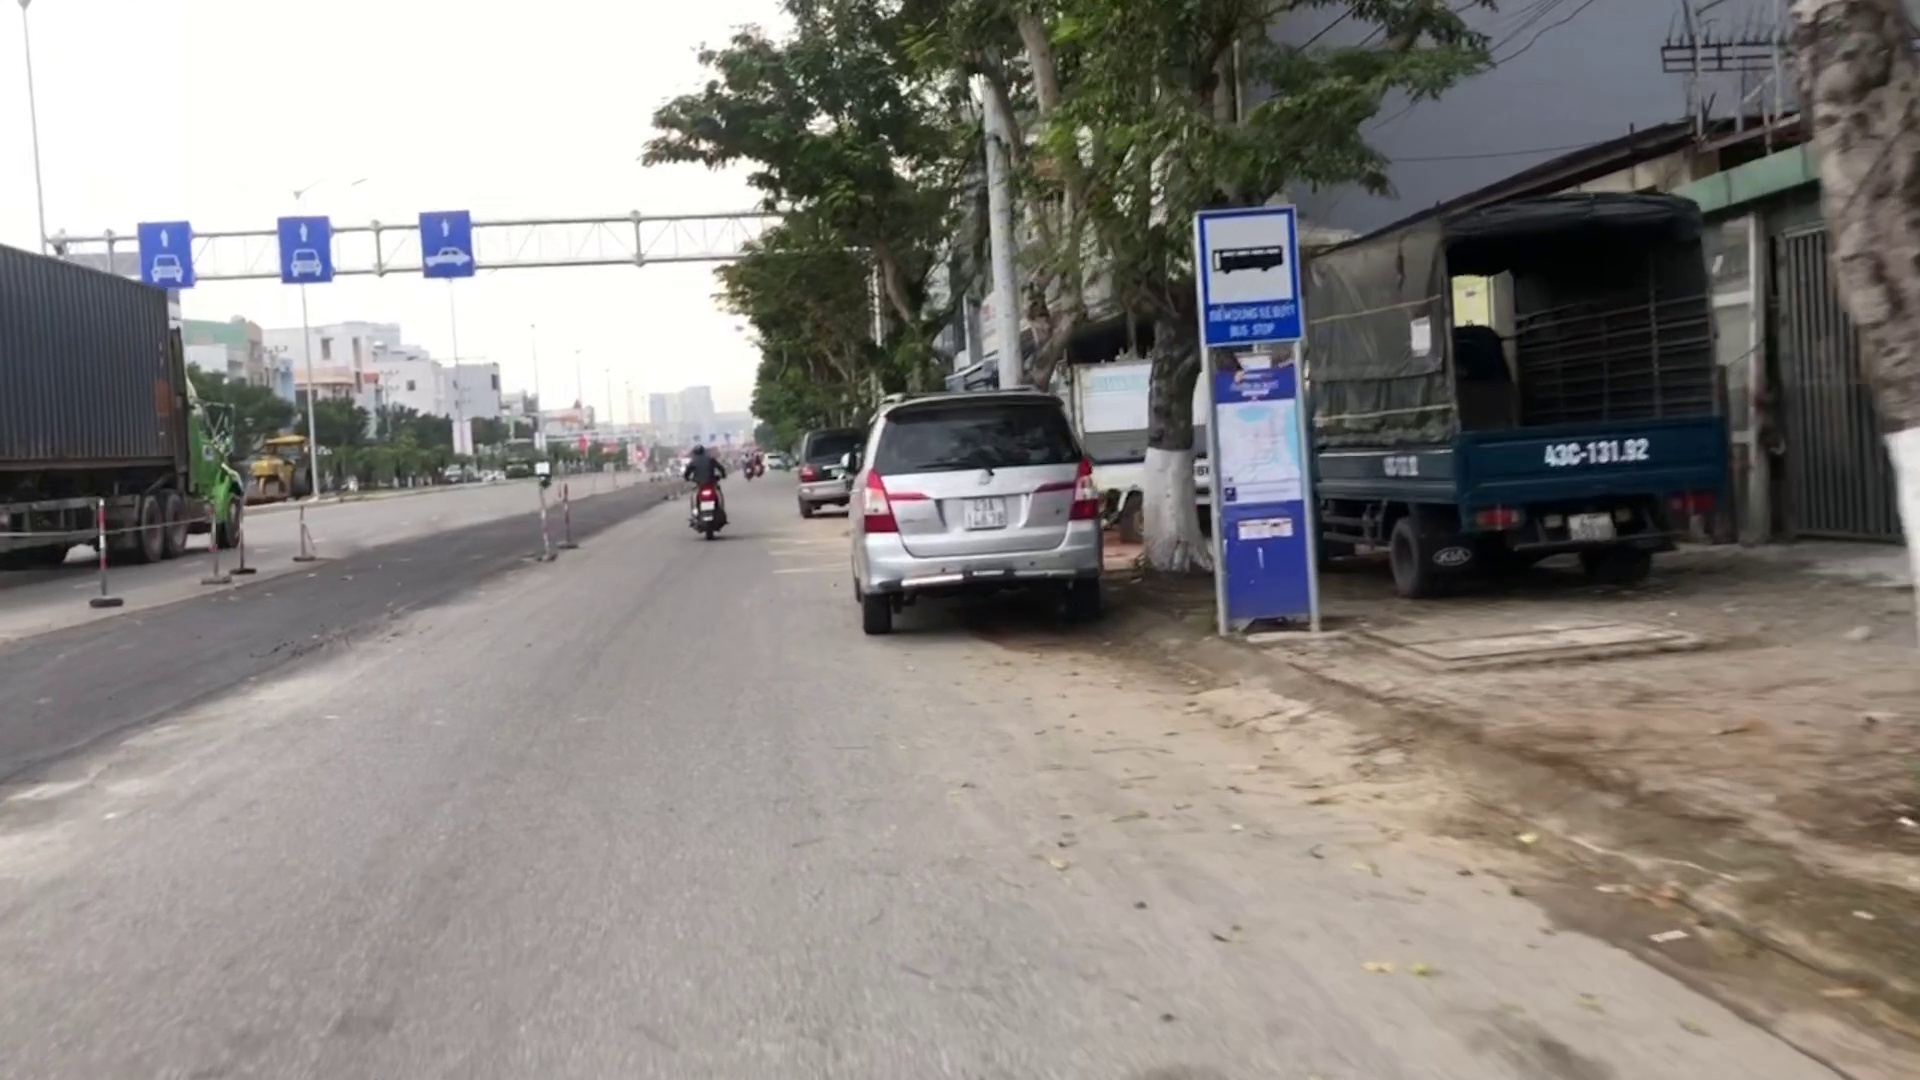Bien khac: (1192, 200, 1303, 349)
